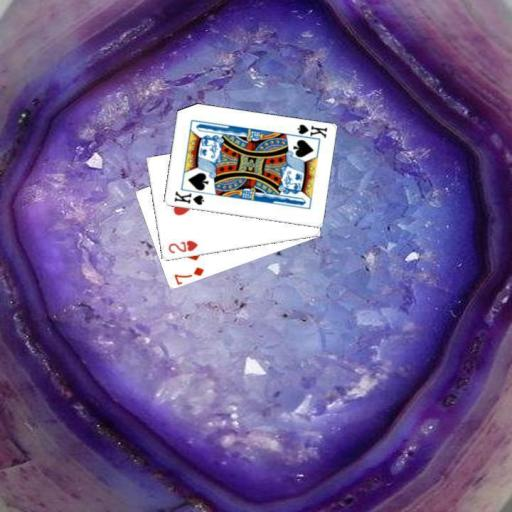card-corner: (290, 121, 328, 142), (170, 264, 206, 285), (170, 188, 206, 207), (165, 238, 199, 256)
